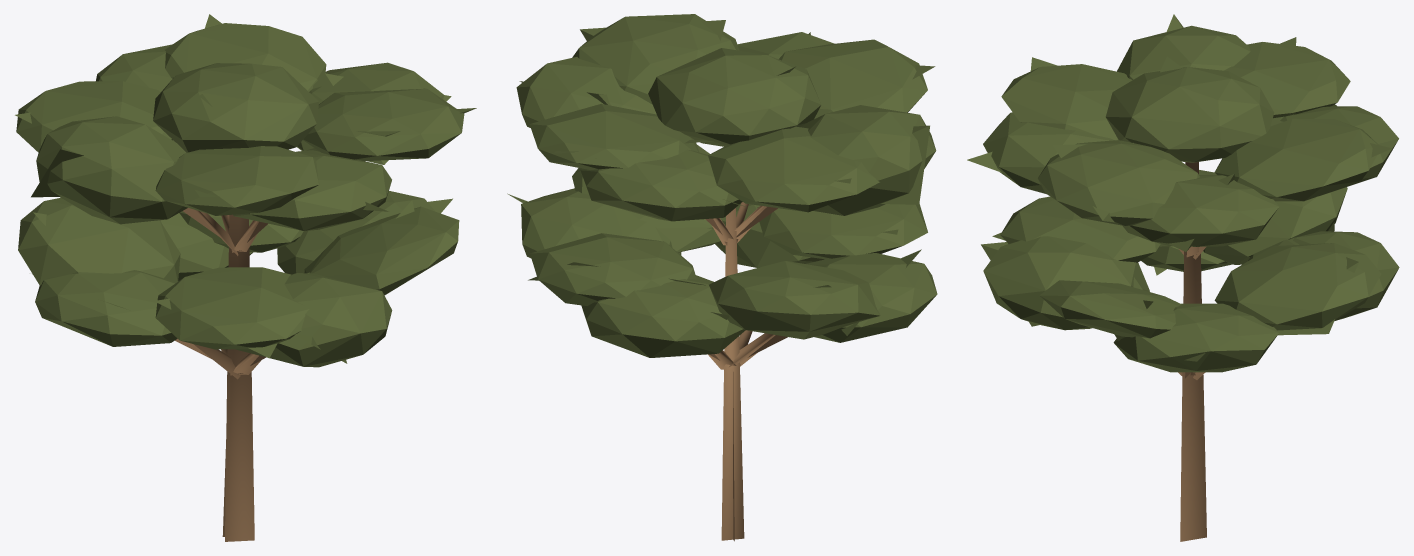
Rendered from KetapangLOD23.fbx.
3 views of the same model, side by side, from view 1: azimuth 30°, elevation 25°; view 2: azimuth 150°, elevation 25°; view 3: azimuth 270°, elevation 25° (orthographic). The views are drawn at different scales.
Visible parts, largest first — view 1: LOD2, LOD3; view 2: LOD2, LOD3; view 3: LOD2, LOD3.
Part boxes in pixels (x1,y1,x2,y2): LOD2: (16, 23, 464, 541); LOD3: (15, 14, 476, 536); LOD2: (516, 14, 937, 540); LOD3: (507, 20, 935, 541); LOD2: (983, 25, 1399, 541); LOD3: (967, 14, 1391, 361).
Size of the model in its own units: 555 by 595 by 513.
